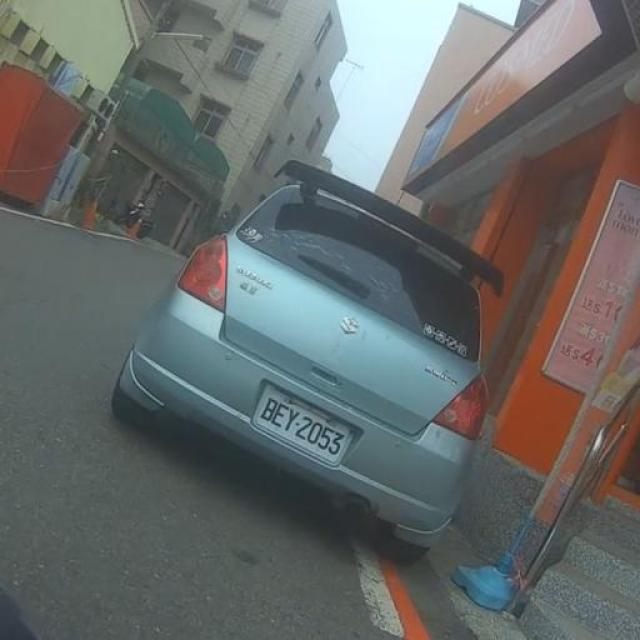illegalparking: (112, 160, 501, 562)
